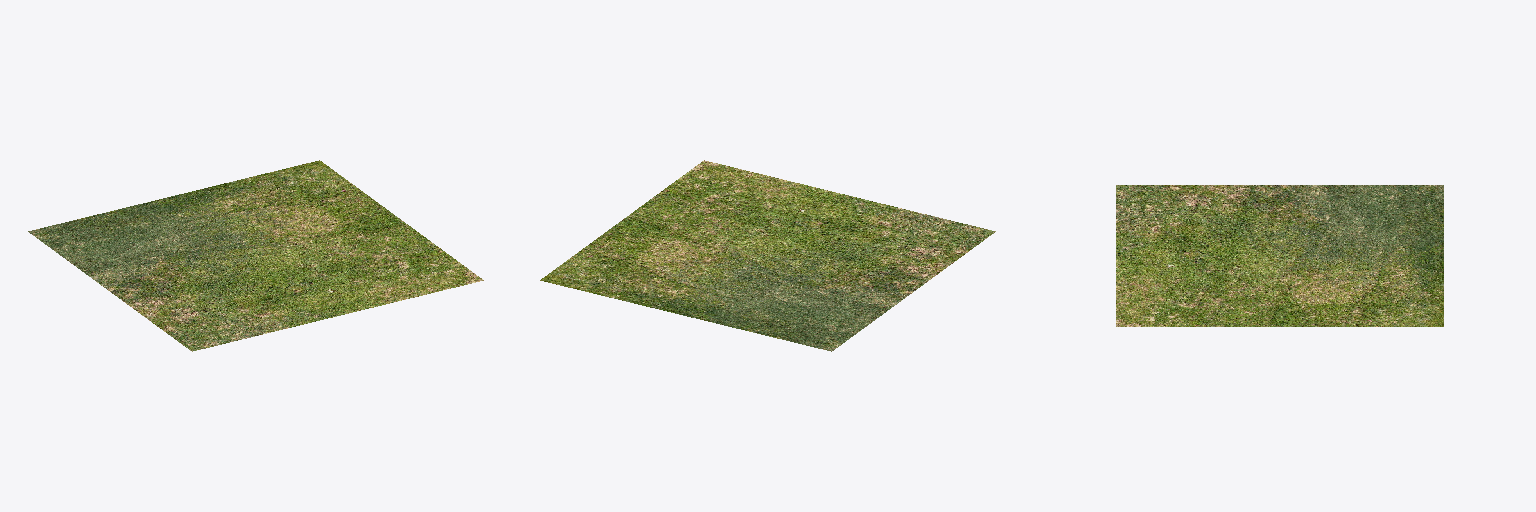
3 renders of one model, left to right at view 1: azimuth 30°, elevation 25°; view 2: azimuth 150°, elevation 25°; view 3: azimuth 270°, elevation 25°, orthographic.
Parts seen in each view (by area): view 1: Plane001; view 2: Plane001; view 3: Plane001.
Boxes of the visible parts, box(x1,y1,x2,y2) form: Plane001: box(28, 160, 483, 351); Plane001: box(540, 160, 995, 351); Plane001: box(1116, 185, 1443, 326).
Size of the model in its own units: 48.36 by 0 by 47.1.
1 materials, 1 textured.